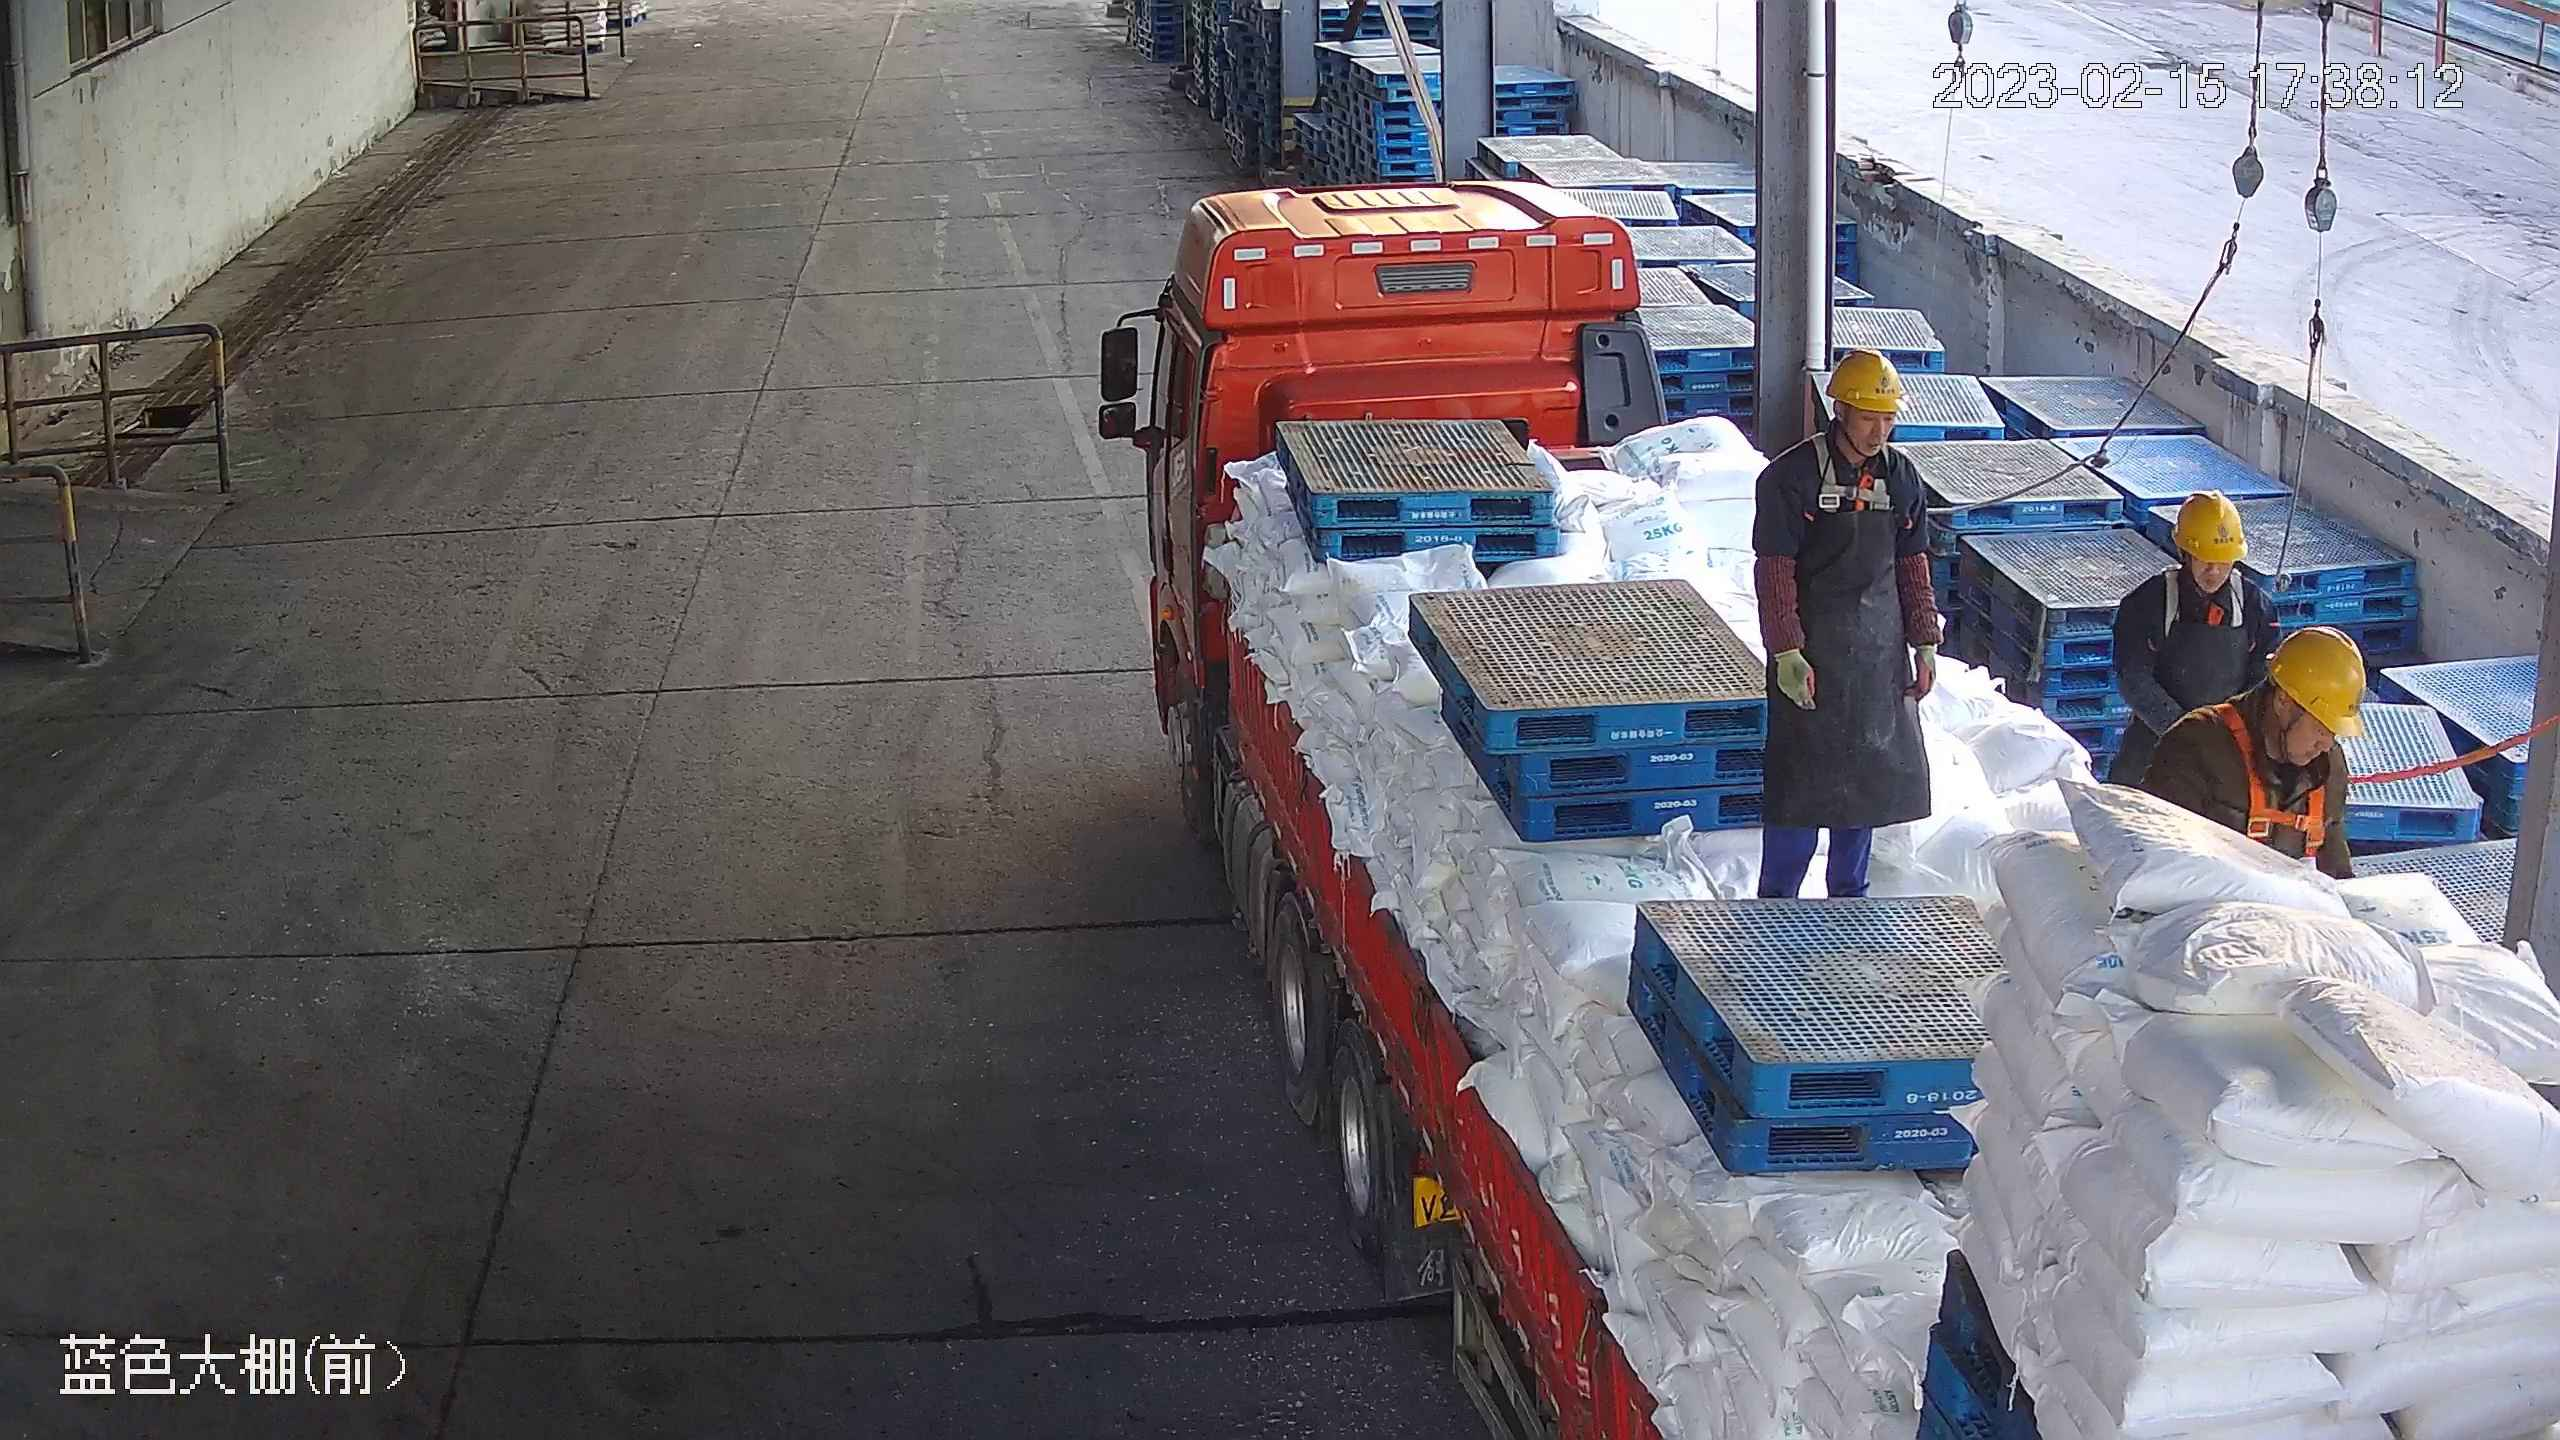belt: (2201, 701, 2353, 862), (2146, 566, 2272, 638), (1805, 438, 1903, 521)
head: (2144, 628, 2366, 789), (1749, 360, 1922, 525), (2114, 491, 2281, 645)
helmet: (2264, 623, 2386, 732), (2161, 480, 2251, 579), (1827, 347, 1907, 417)
people: (1738, 353, 1966, 914)
truck: (1073, 180, 2560, 1440)
